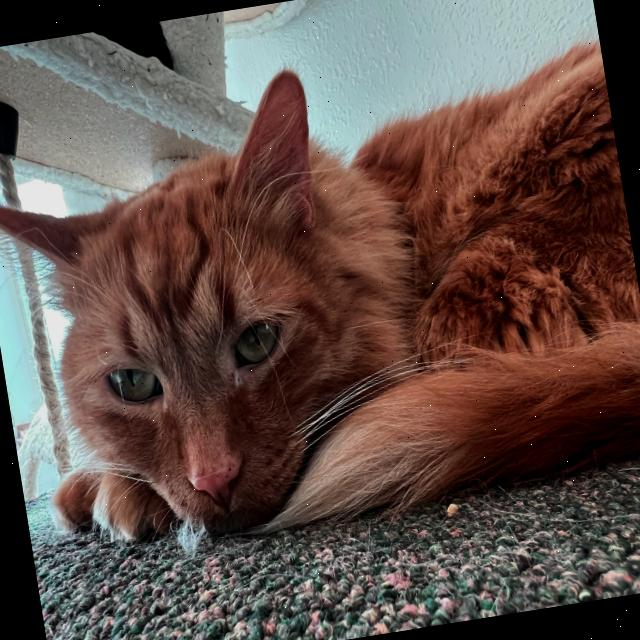domestic_long_hair_cat: (0, 28, 470, 607)
